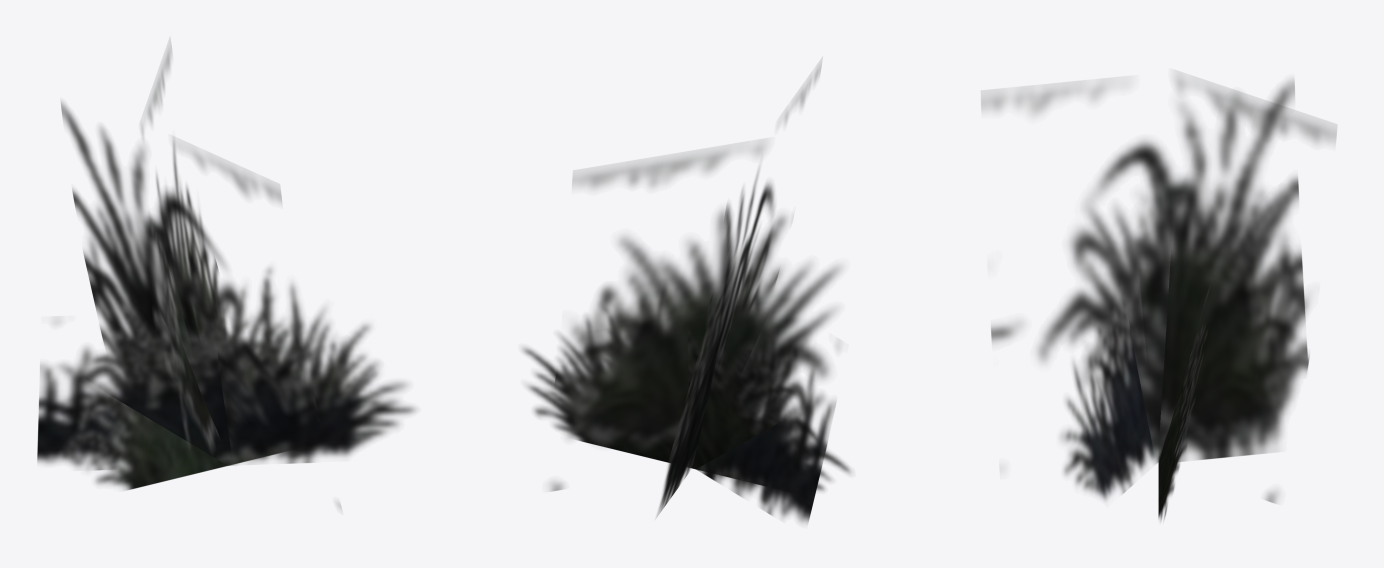
The model's file is bui-co-dai-2.glb.
The picture shows the model from 3 angles, left to right: view 1: azimuth 30°, elevation 25°; view 2: azimuth 150°, elevation 25°; view 3: azimuth 270°, elevation 25°; orthographic projection.
Parts seen in each view (by area): view 1: p0; view 2: p0; view 3: p0.
Part boxes in pixels (bbox=[...]): p0: bbox=[37, 40, 416, 510]; p0: bbox=[522, 61, 851, 523]; p0: bbox=[981, 77, 1336, 521].
Size of the model in its own units: 0.523 by 0.4975 by 0.5326.
4 materials, 4 textured.
